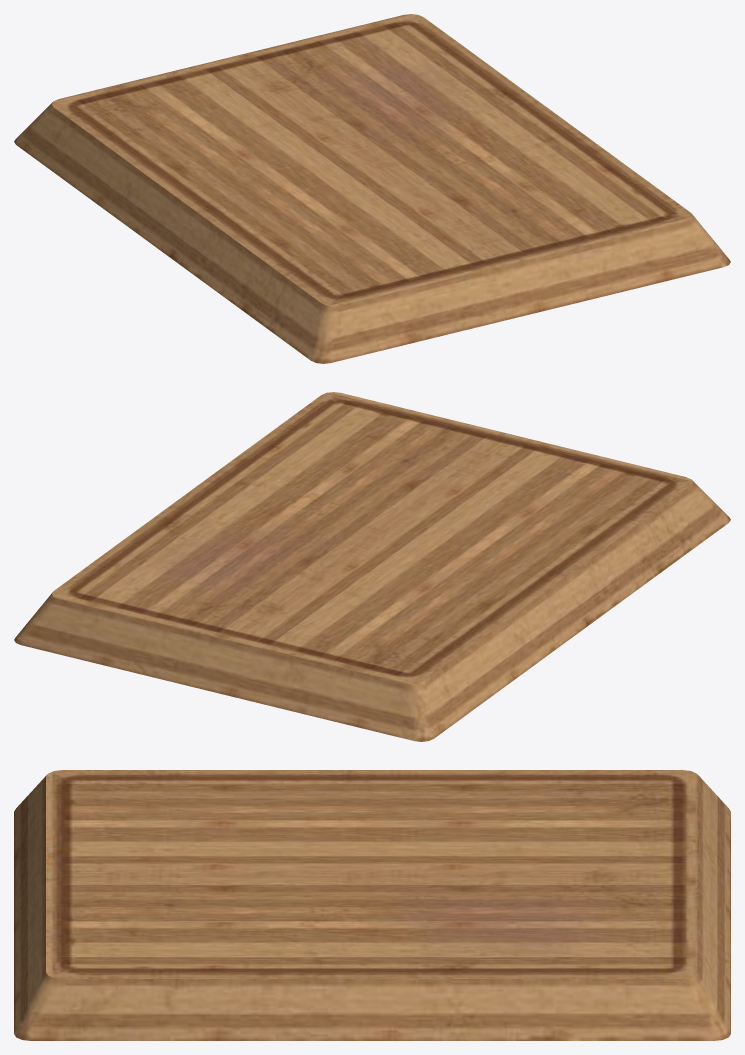
File: board.glb
3 renders of one model, top to bottom at view 1: azimuth 30°, elevation 25°; view 2: azimuth 150°, elevation 25°; view 3: azimuth 270°, elevation 25°, orthographic. The views are drawn at different scales.
Visible parts, largest first — view 1: board_A; view 2: board_A; view 3: board_A.
Part boxes in pixels (x1=…): board_A: x1=14, y1=14, x2=730, y2=363; board_A: x1=14, y1=392, x2=730, y2=741; board_A: x1=14, y1=770, x2=730, y2=1040.
Size of the model in its own units: 0.4198 by 0.04 by 0.5385.
Materials: 1 (1 with a texture image).
